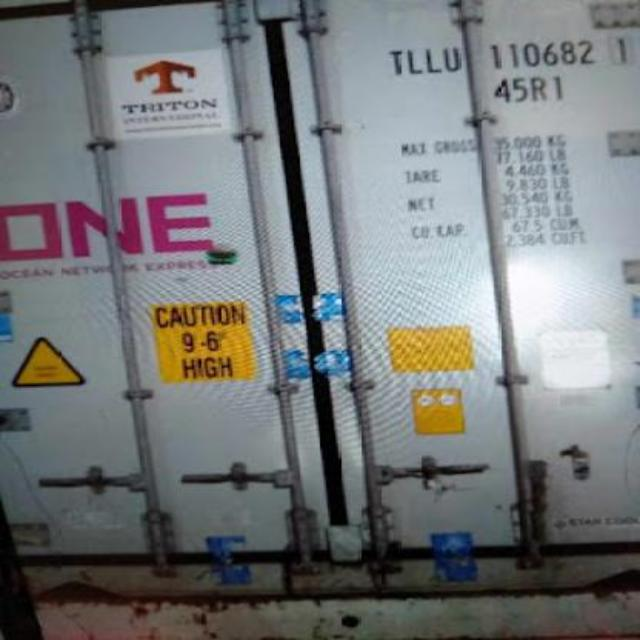0: (522, 40, 542, 70)
1: (612, 34, 636, 64), (484, 39, 504, 71), (504, 37, 522, 69)
2: (578, 34, 594, 70)
6: (544, 39, 560, 71)
8: (560, 38, 578, 72)
L: (404, 44, 424, 80), (424, 44, 440, 80)
T: (386, 44, 402, 76)
U: (442, 44, 464, 78)
